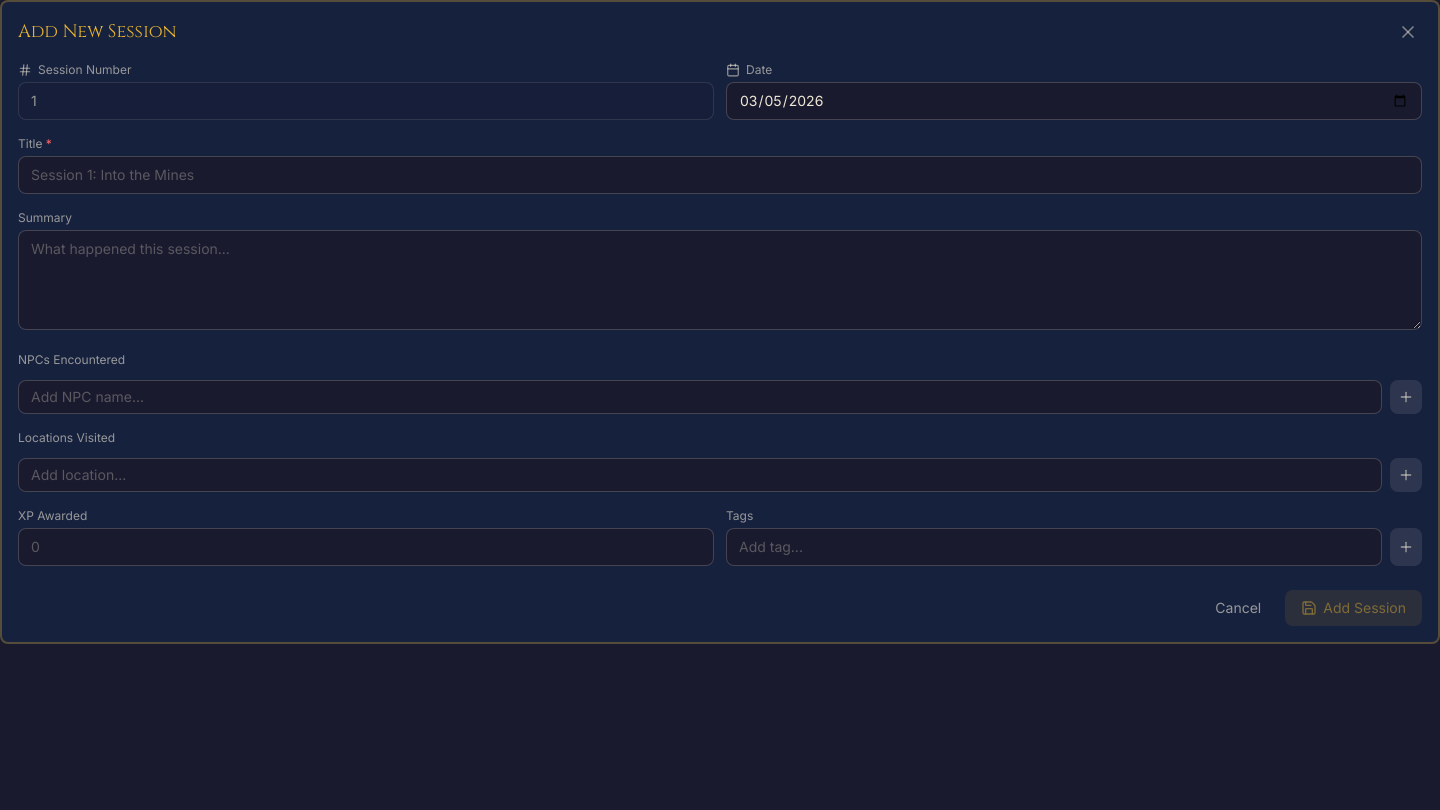
SessionNoteForm › should show NPC autocomplete suggestions
The width and height of the screenshot is (1440, 810).
Type "Lord" into the field named "NPC name input".
click(700, 397); type("Lord")  # box [18,380,1382,414]
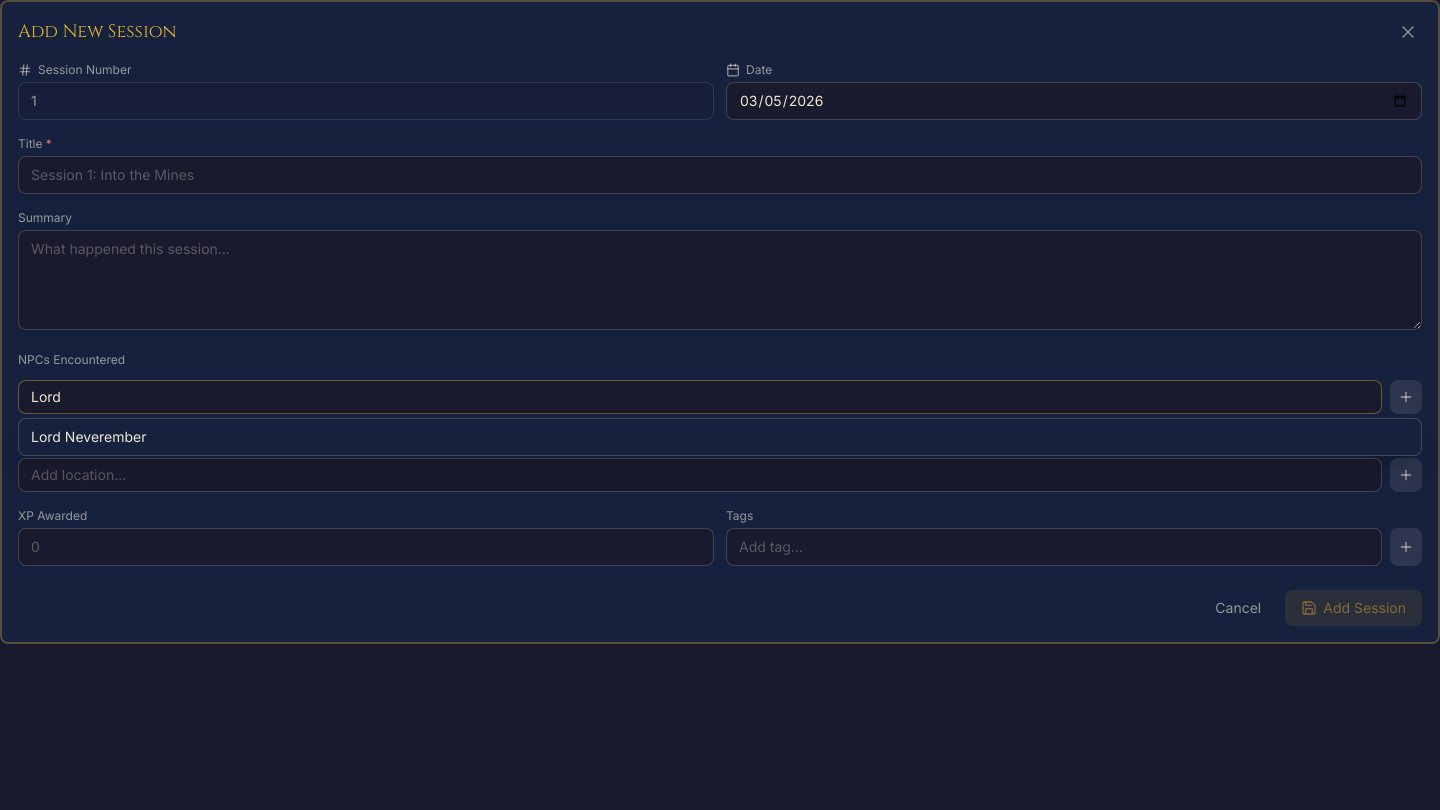
Expected: the button "Lord Neverember" is shown, [19,419,1421,455]
